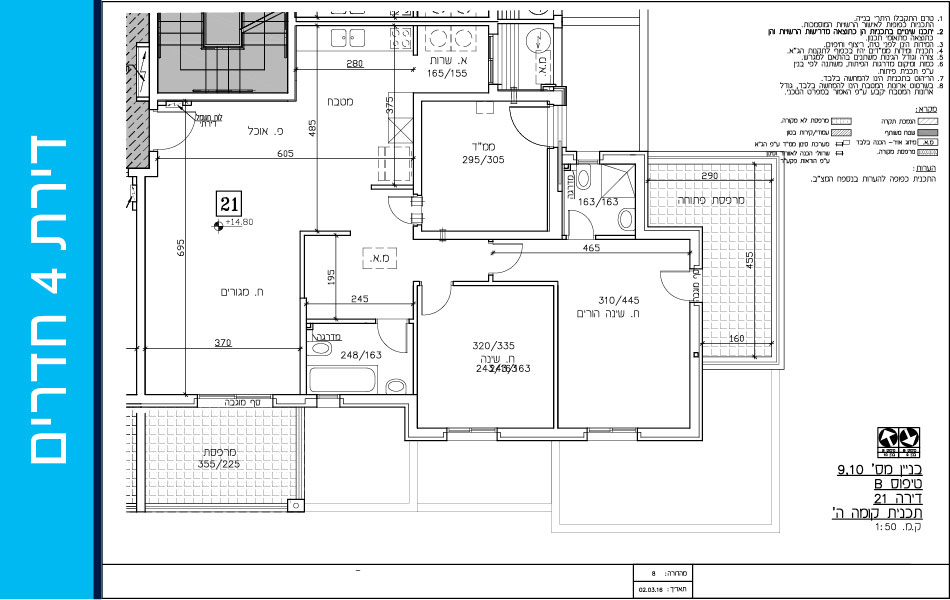door: (654, 261, 686, 312), (504, 104, 540, 148), (372, 326, 409, 357), (420, 291, 455, 322), (495, 241, 528, 272), (378, 192, 408, 226), (567, 208, 595, 232)
window: (445, 424, 498, 438), (585, 424, 639, 436)
